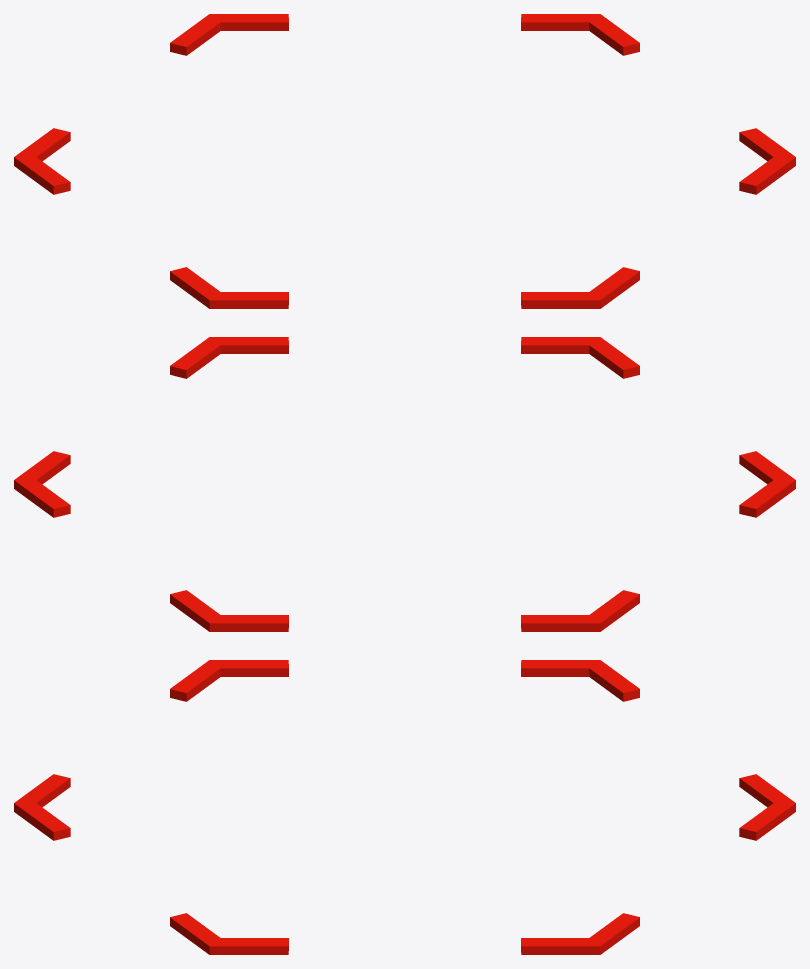
File: Pointer.FBX
3 views of the same model, one above another, from view 1: azimuth 30°, elevation 25°; view 2: azimuth 150°, elevation 25°; view 3: azimuth 270°, elevation 25° (orthographic).
Visible parts, largest first — view 1: Pointer; view 2: Pointer; view 3: Pointer.
Boxes of the visible parts, x1=… form: Pointer: x1=14, y1=14, x2=795, y2=308; Pointer: x1=14, y1=337, x2=795, y2=631; Pointer: x1=14, y1=660, x2=795, y2=954.
Bounding box in the file's own units: 69.96 × 1 × 80.79.
